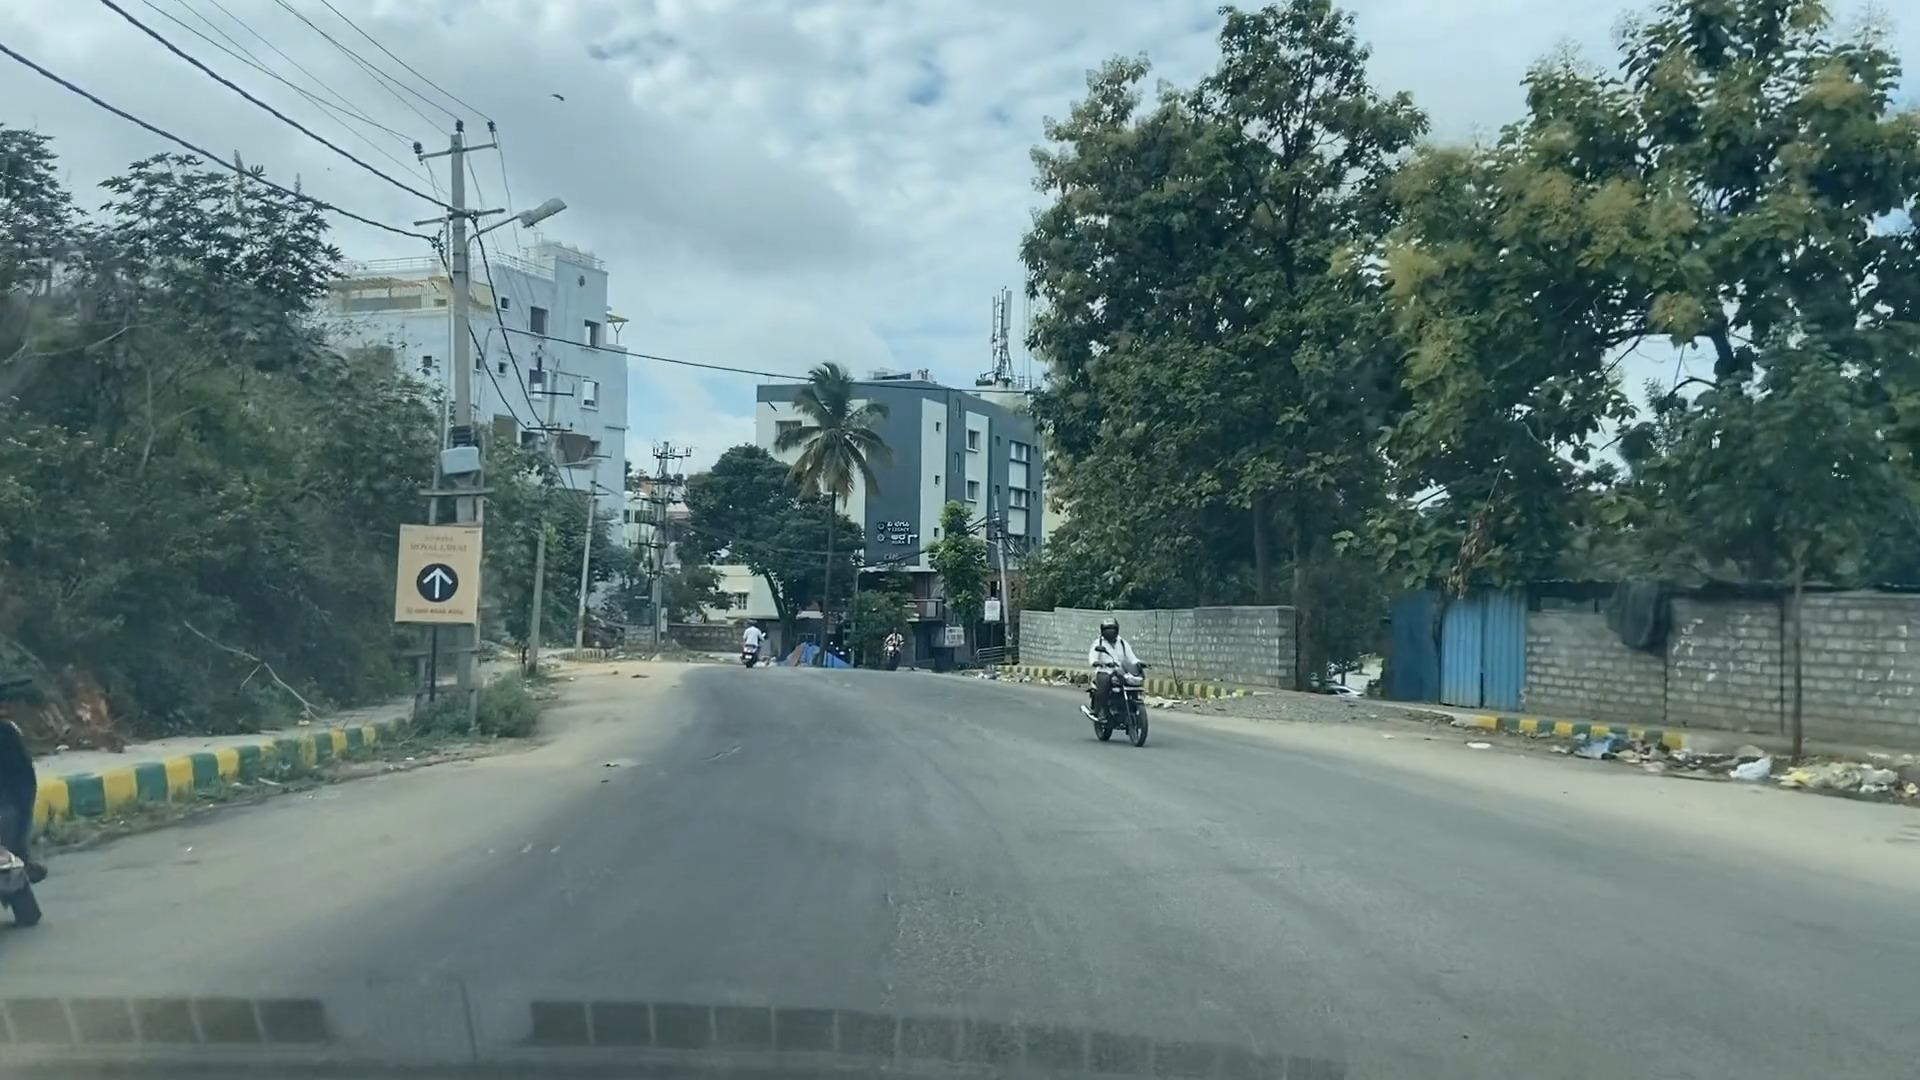RoadDamages: (448, 819, 603, 911)
